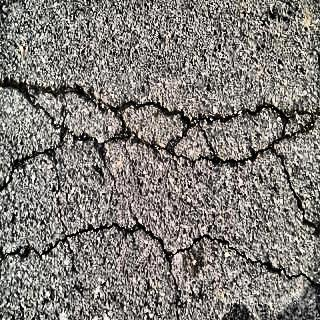alligator-crack: (3, 76, 320, 293)
